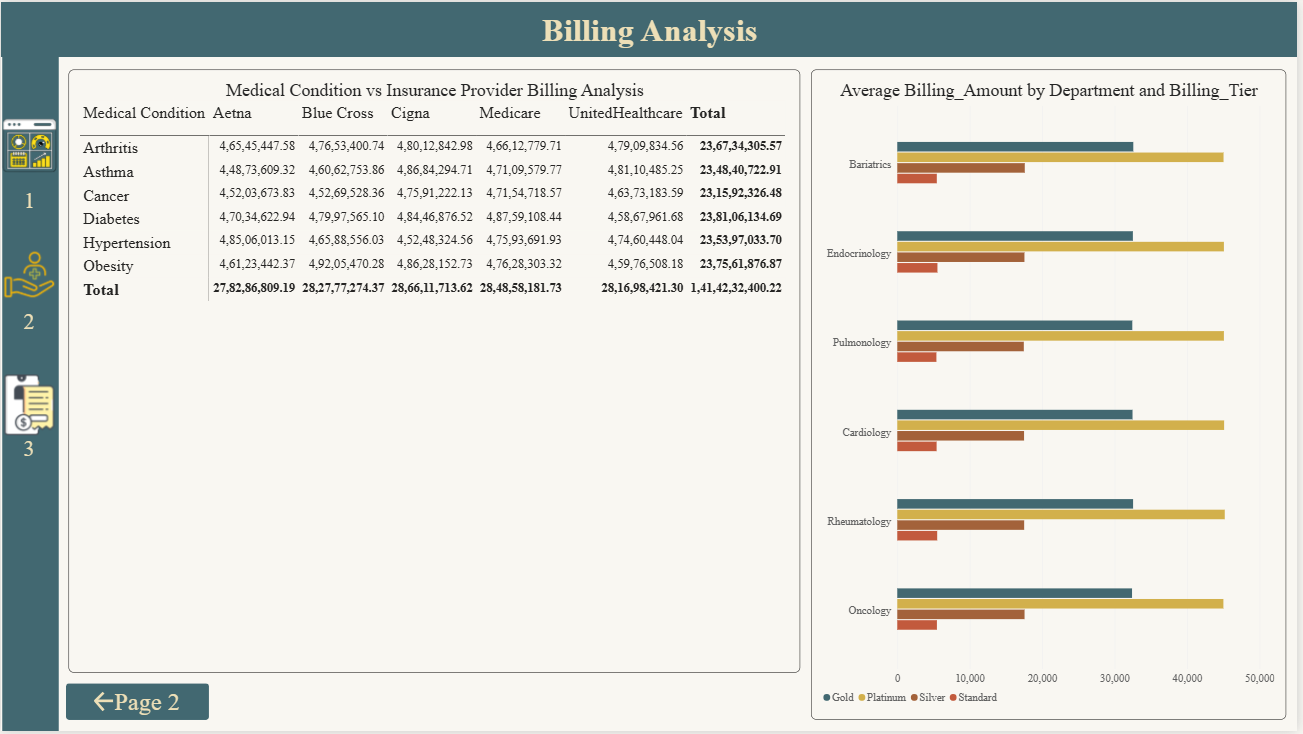

The dashboard page shown, as its layout file describes it:
{"tool":"powerbi","page":{"name":"Billing Analysis","canvas":[1920,1080],"ordinal":2},"visuals":[{"type":"shape","box":[0,0,1920.4,81.5],"z":0},{"type":"shape","box":[1.4,0,83.7,1080.4],"z":0,"group":"g1"},{"type":"clusteredBarChart","title":"Average Billing_Amount by Department and Billing_Tier","fields":{"Category":["healthcare_dataset.Department"],"Series":["healthcare_dataset.Billing_Tier"],"Y":["Avg(healthcare_dataset.Billing_Amount_Fixed)"]},"box":[1200,100,703.7,963],"z":1000},{"type":"actionButton","box":[0,150.2,85.1,215.3],"z":1000,"group":"g1"},{"type":"pivotTable","title":"Medical Condition vs Insurance Provider Billing Analysis","fields":{"Columns":["healthcare_dataset.Insurance Provider"],"Rows":["healthcare_dataset.Medical Condition"],"Values":["Sum(healthcare_dataset.Billing_Amount_Fixed)"]},"box":[99.5,99.5,1084,894],"z":2000},{"type":"actionButton","box":[0.8,352.9,83.7,215.3],"z":2000,"group":"g1"},{"type":"textbox","box":[100,14,1722,68],"z":3000},{"type":"actionButton","box":[0.8,551.9,83.7,215.3],"z":3000,"group":"g1"},{"type":"group","id":"g1","title":"Group 1","box":[0,0,85.1,1080.4],"z":4000},{"type":"actionButton","box":[95.9,1009.8,211.7,54.3],"z":5000}]}

Visuals, with their boxes on the page's 1920x1080 design canvas (x1, y1, x2, y2). These are canvas units, not pixel positions in the 1303x734 screenshot, which may show the page scaled, cropped or inside an application window:
shape: (0,0,1920,82)
shape: (1,0,85,1080)
"Average Billing_Amount by Department and Billing_Tier" clusteredBarChart: (1200,100,1904,1063)
actionButton: (0,150,85,366)
"Medical Condition vs Insurance Provider Billing Analysis" pivotTable: (100,100,1184,994)
actionButton: (1,353,84,568)
textbox: (100,14,1822,82)
actionButton: (1,552,84,767)
"Group 1" group: (0,0,85,1080)
actionButton: (96,1010,308,1064)
